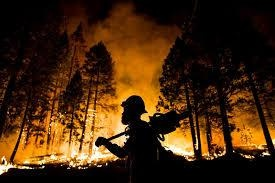fire: (1, 91, 119, 169), (161, 91, 274, 162)
